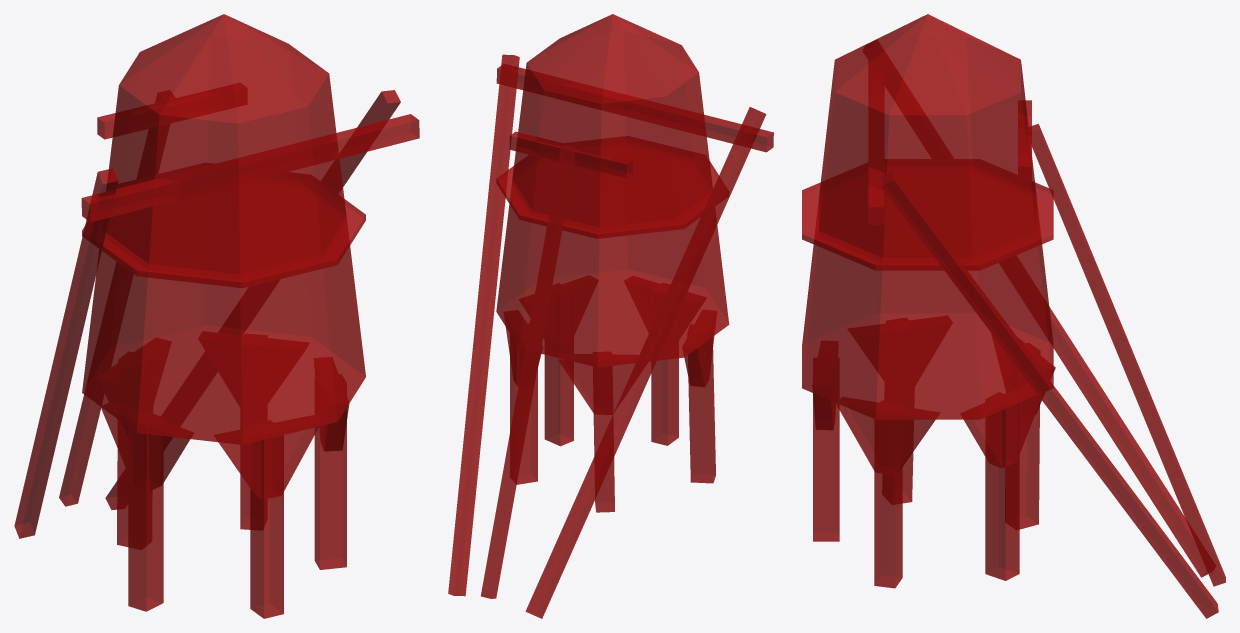
File: SM_Bld_Windmill_02_Collision.fbx
The picture shows the model from 3 angles, left to right: view 1: azimuth 30°, elevation 25°; view 2: azimuth 150°, elevation 25°; view 3: azimuth 270°, elevation 25°; orthographic projection. The views are drawn at different scales.
Visible parts, largest first — view 1: SM_Bld_Windmill_02_Collision; view 2: SM_Bld_Windmill_02_Collision; view 3: SM_Bld_Windmill_02_Collision.
Part boxes in pixels (x1,y1,x2,y2): SM_Bld_Windmill_02_Collision: (14, 14, 419, 618); SM_Bld_Windmill_02_Collision: (448, 14, 773, 618); SM_Bld_Windmill_02_Collision: (802, 14, 1225, 618).
Bounding box in the file's own units: 580 × 1038 × 680.
